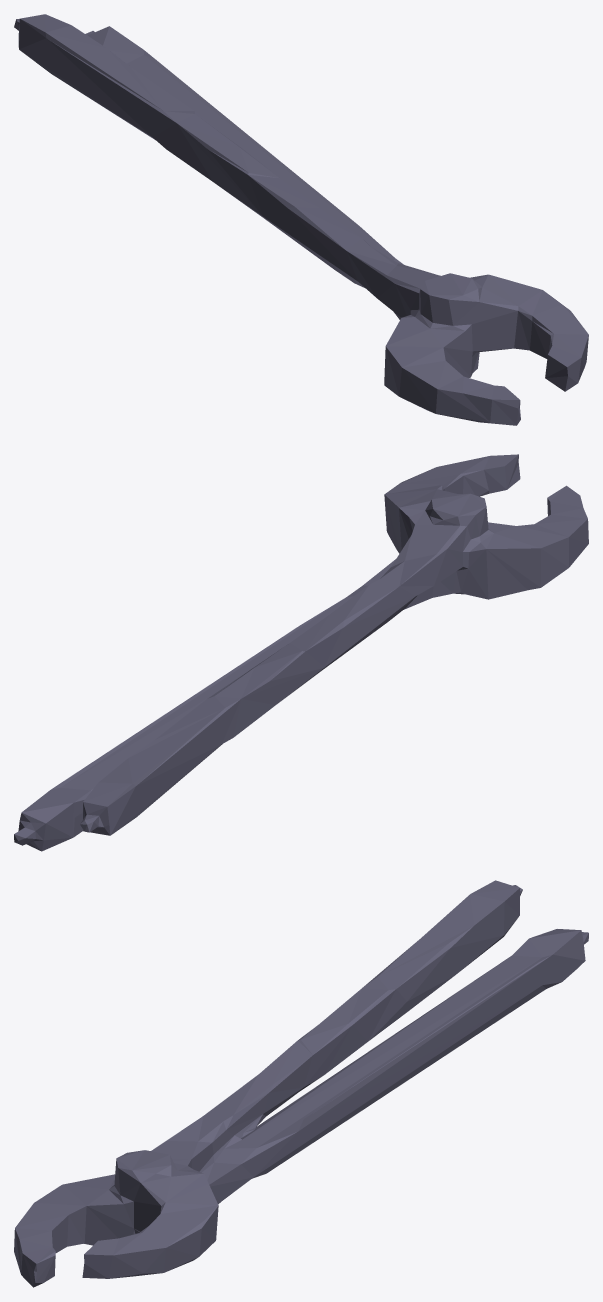
The model's file is Tongs.fbx.
3 views of the same model, one above another, from view 1: azimuth 30°, elevation 25°; view 2: azimuth 150°, elevation 25°; view 3: azimuth 330°, elevation 25° (orthographic).
Visible parts, largest first — view 1: Tongs; view 2: Tongs; view 3: Tongs.
Boxes of the visible parts, x1,y1,x2,y2 form: Tongs: (14, 14, 588, 425); Tongs: (14, 454, 588, 851); Tongs: (14, 880, 588, 1287).
Size of the model in its own units: 215 by 97.63 by 1080.
